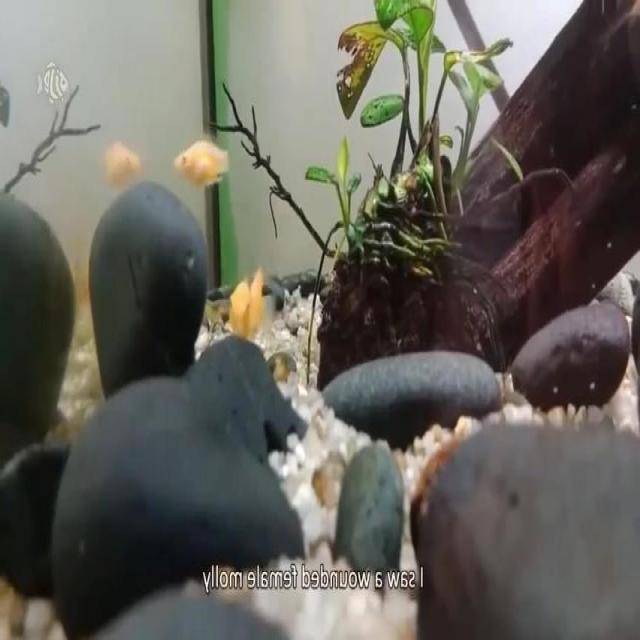PlatyFish: (170, 125, 238, 191)
